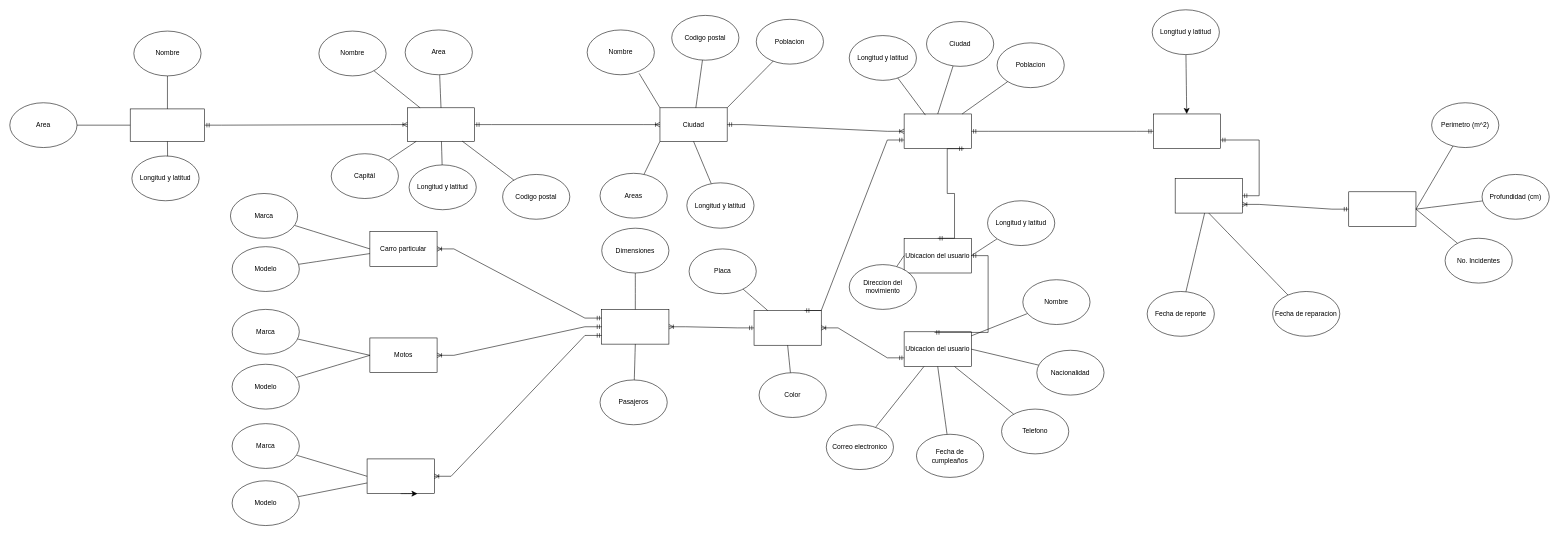
This 1559x535 diagram has some shape labels left out. The centre of each missing label's shape, as x and y in pixels:
"Baches" goes at [1208,195].
"Calles" goes at [937,131].
"Categorias" goes at [1382,209].
"Pais" goes at [167,124].
"Region" goes at [441,124].
"Tipo de vehiculio" goes at [635,326].
"Ubicacion del bache" goes at [1187,131].
"Vehiculo" goes at [787,327].
"Vehiculos de cargar" goes at [400,476].
